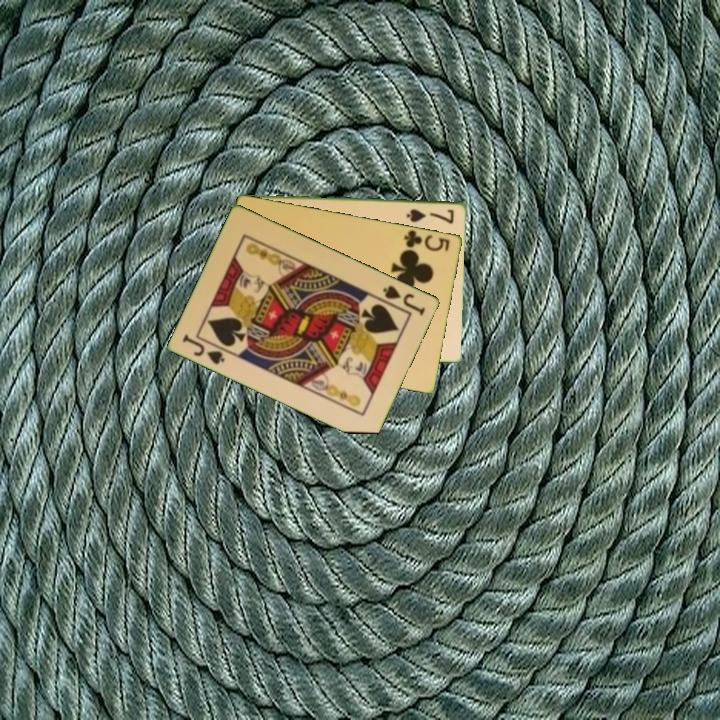5c: (401, 227, 453, 254)
7s: (404, 205, 457, 226)
Js: (379, 281, 428, 319), (179, 330, 229, 367)
